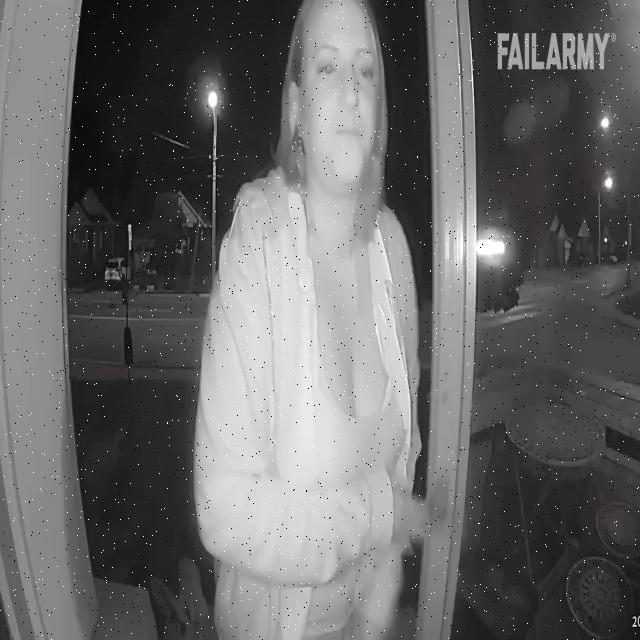person: (194, 0, 438, 640)
